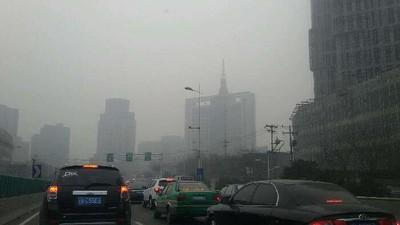car: (206, 177, 398, 225), (38, 163, 131, 224), (152, 179, 222, 223), (141, 176, 185, 211), (125, 178, 156, 202)
